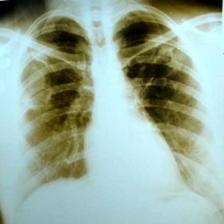tuberculosis: (6, 6, 224, 213)
